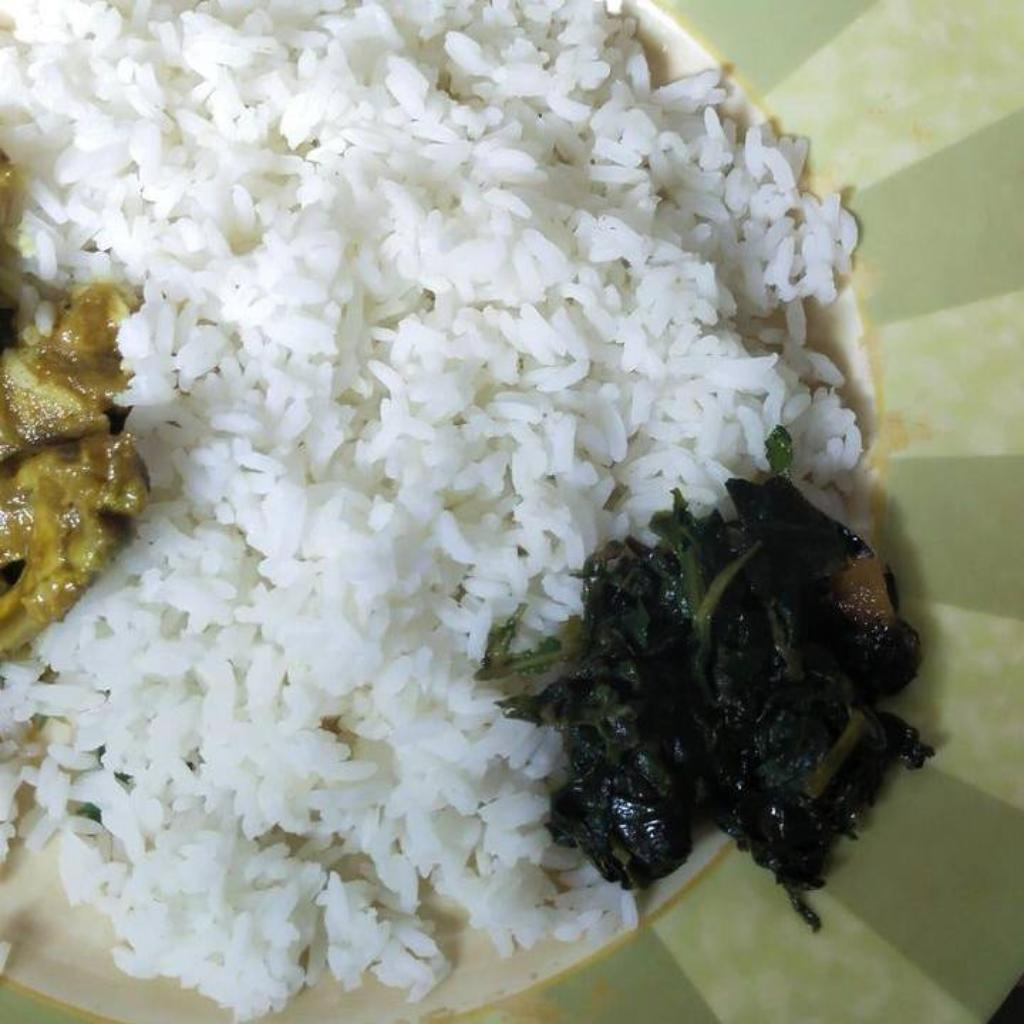rice: (3, 4, 868, 1017)
shak: (490, 480, 945, 926)
